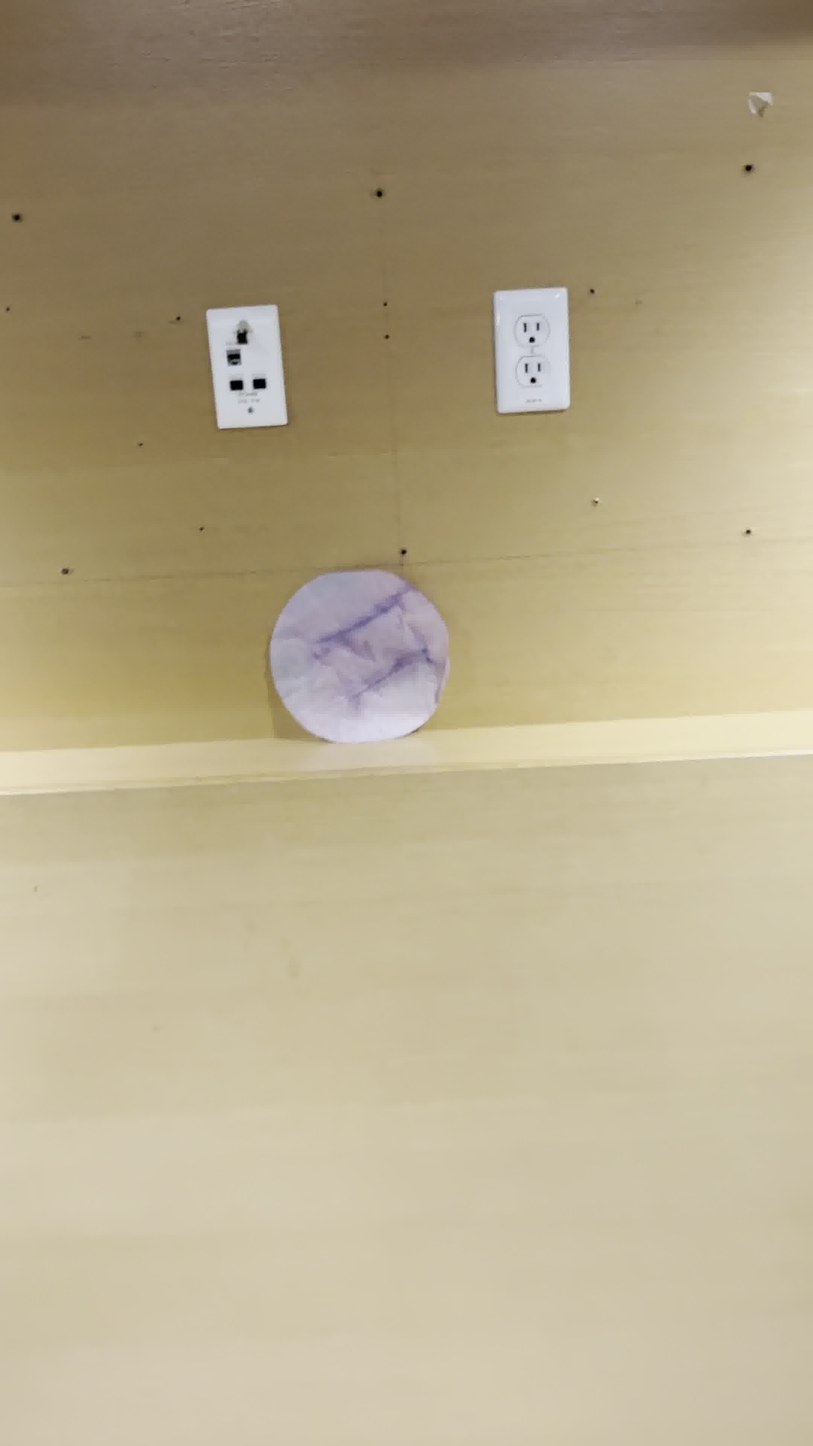Target: (264, 567, 456, 753)
